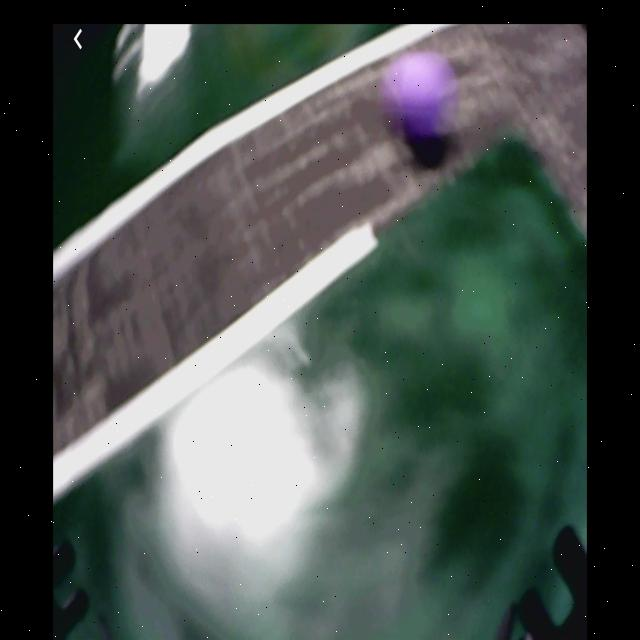ball: (400, 52, 454, 149)
